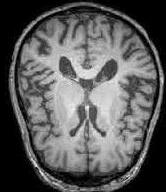Normal_Brain: (8, 1, 166, 192)
